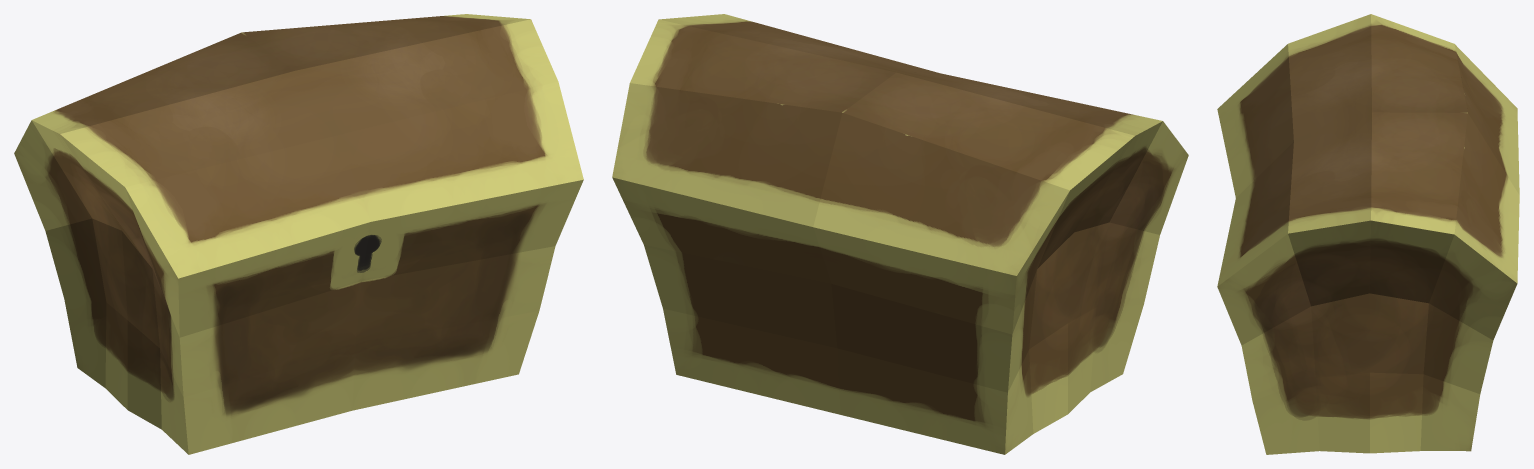
The model's file is chest.fbx.
3 views of the same model, side by side, from view 1: azimuth 30°, elevation 25°; view 2: azimuth 150°, elevation 25°; view 3: azimuth 270°, elevation 25° (orthographic). The views are drawn at different scales.
Parts seen in each view (by area): view 1: Cube; view 2: Cube; view 3: Cube.
Boxes of the visible parts, x1,y1,x2,y2 form: Cube: [14, 14, 583, 454]; Cube: [612, 14, 1188, 454]; Cube: [1217, 14, 1519, 454].
Bounding box in the file's own units: 0.9289 × 0.5666 × 0.5747.
1 material, 1 textured.
